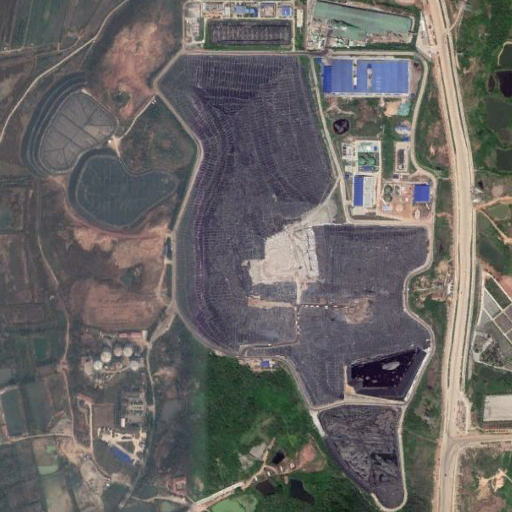lf: (159, 53, 431, 405)
